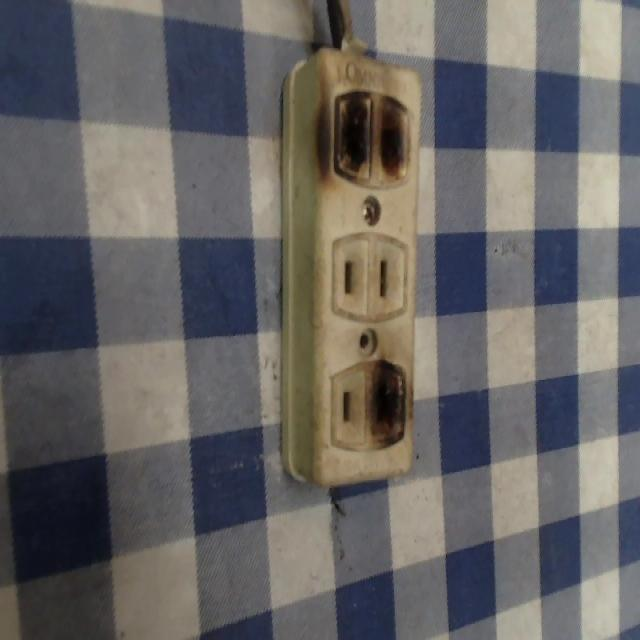-: (312, 78, 416, 198), (361, 351, 422, 457)
